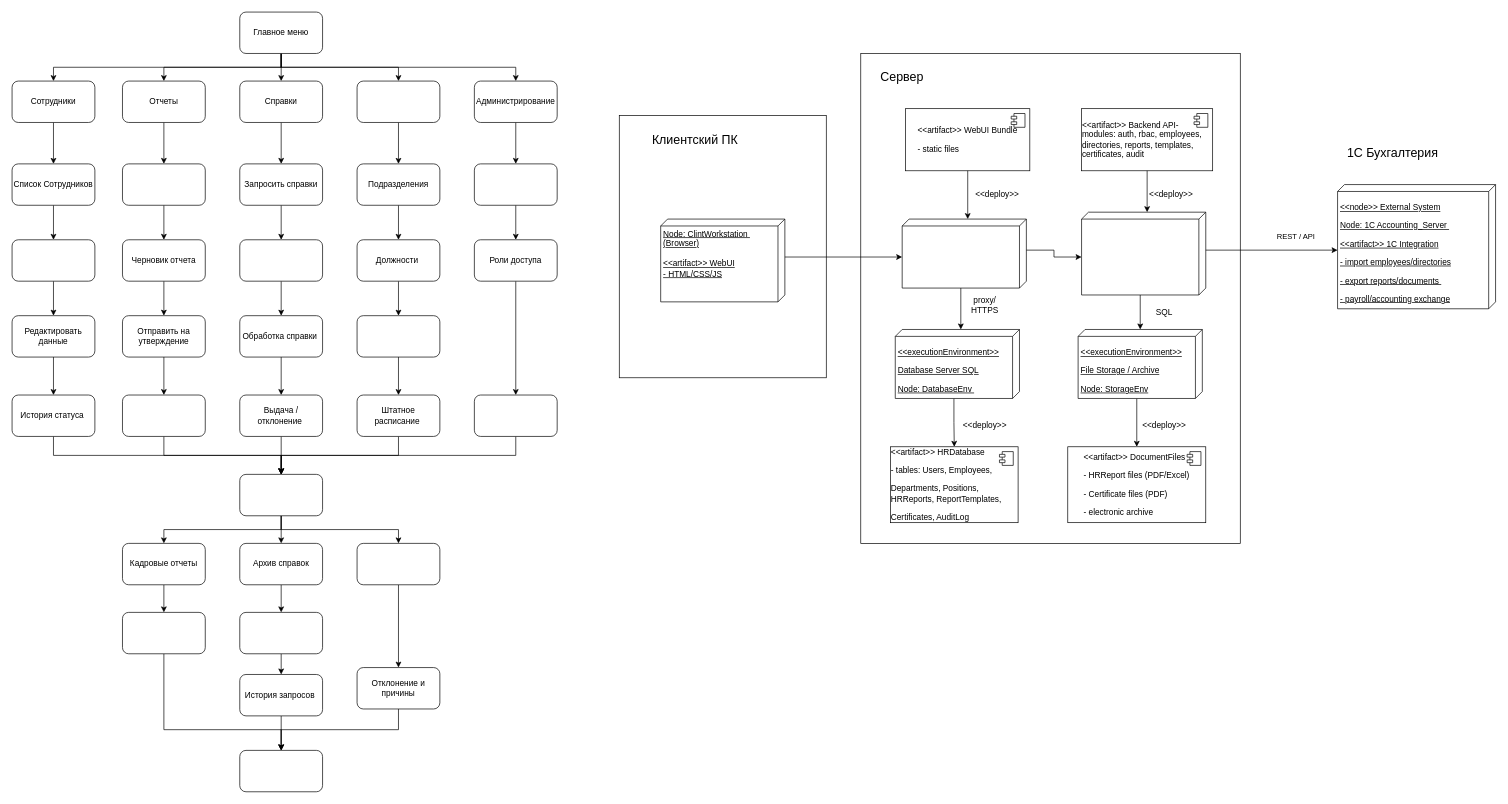
The diagram is 1508 pixels wide and 804 high, and some of its shapes have lost their labels. The shapes that lost their labels are listed below. From the top down, each one's centre as x and y in pixels, then its label:
At point (398, 101): "Структура".
At point (163, 184): "Создать отчет".
At point (515, 184): "Пользователи".
At point (53, 260): "Карточка сотрудника".
At point (281, 260): "Список запросов".
At point (963, 253): "<<executionEnvironment>> Web Server (Nginx/Apache) Node: WebServerEnv".
At point (1143, 253): "<<executionEnvironment>> App Server (Runtime) Node: AppServerEnv".
At point (398, 336): "Сотрудники подразделения".
At point (163, 415): "Утверждение / отклонение".
At point (515, 415): "Настройки".
At point (281, 495): "Архив и аналитика".
At point (398, 564): "План-факт анализ".
At point (163, 633): "Экспорт PDF / Exel".
At point (281, 633): "По сотрудникам".
At point (281, 771): "Электронный архив кадровых документов".
